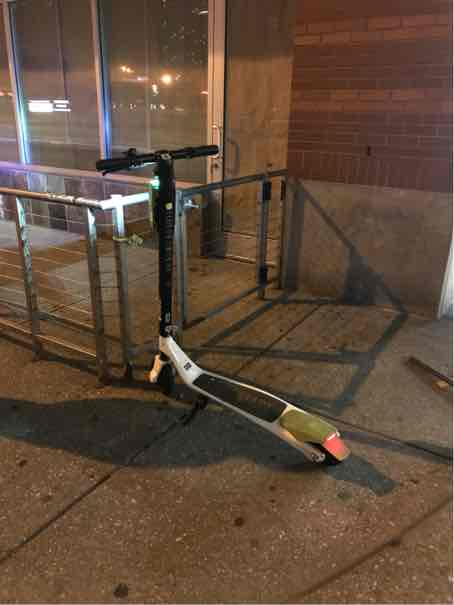scooter: (81, 126, 360, 483)
